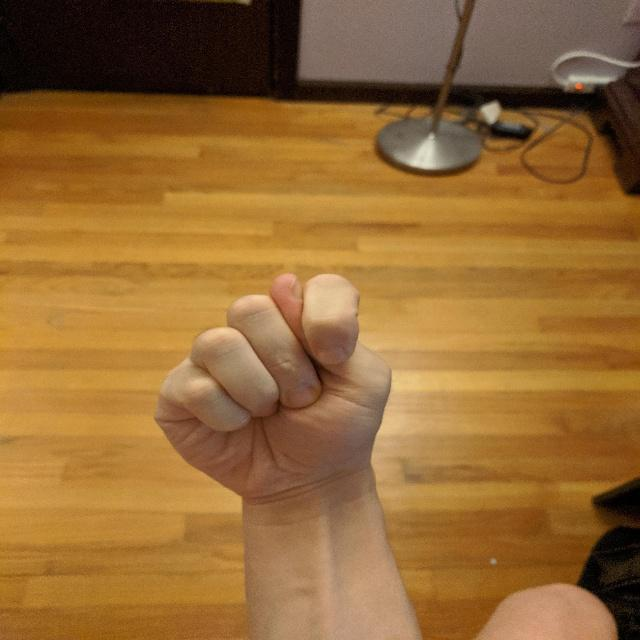T: (144, 265, 386, 507)
